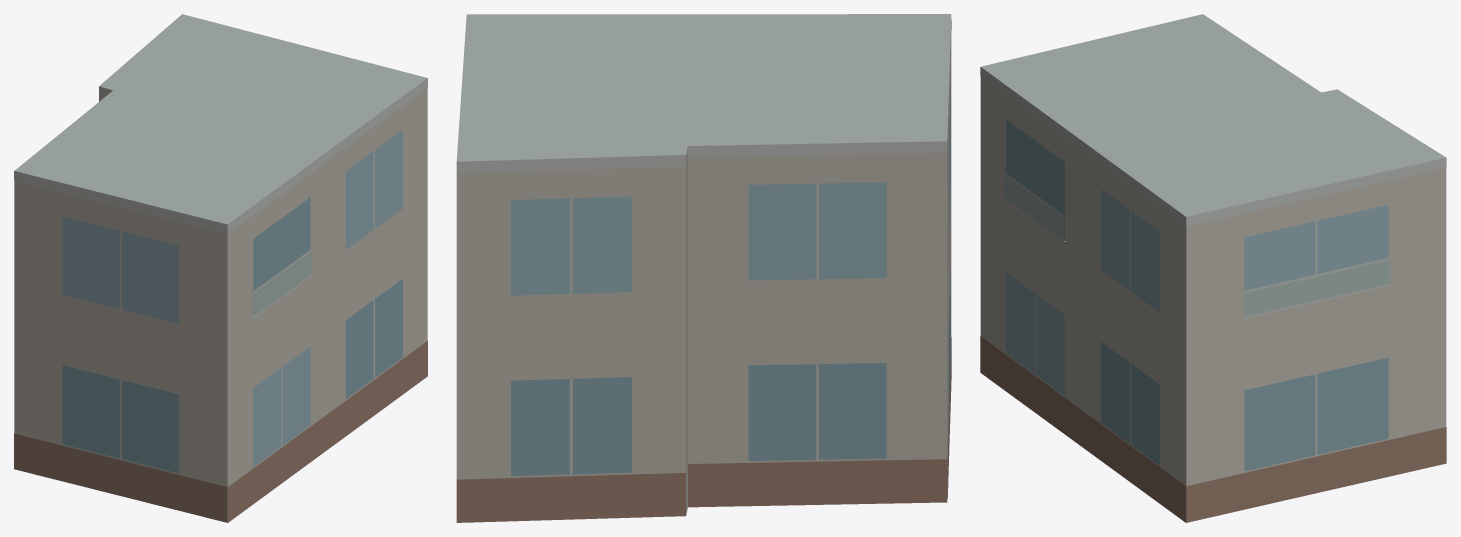
Rendered from survey-upis-33047397.glb.
The picture shows the model from 3 angles, left to right: view 1: azimuth 30°, elevation 25°; view 2: azimuth 150°, elevation 25°; view 3: azimuth 270°, elevation 25°; orthographic projection. The views are drawn at different scales.
Visible parts, largest first — view 1: survey-upis-33047397.tmp; view 2: survey-upis-33047397.tmp; view 3: survey-upis-33047397.tmp.
Boxes of the visible parts, left/top/right/bottom form: survey-upis-33047397.tmp: left=14, top=14, right=427, bottom=522; survey-upis-33047397.tmp: left=456, top=14, right=951, bottom=522; survey-upis-33047397.tmp: left=980, top=14, right=1446, bottom=522.
Size of the model in its own units: 10.82 by 7.6 by 10.5.
